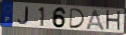1: (38, 6, 46, 27)
6: (51, 6, 68, 29)
A: (84, 9, 107, 32)
D: (69, 8, 86, 29)
H: (105, 9, 122, 32)
J: (17, 7, 29, 26)
